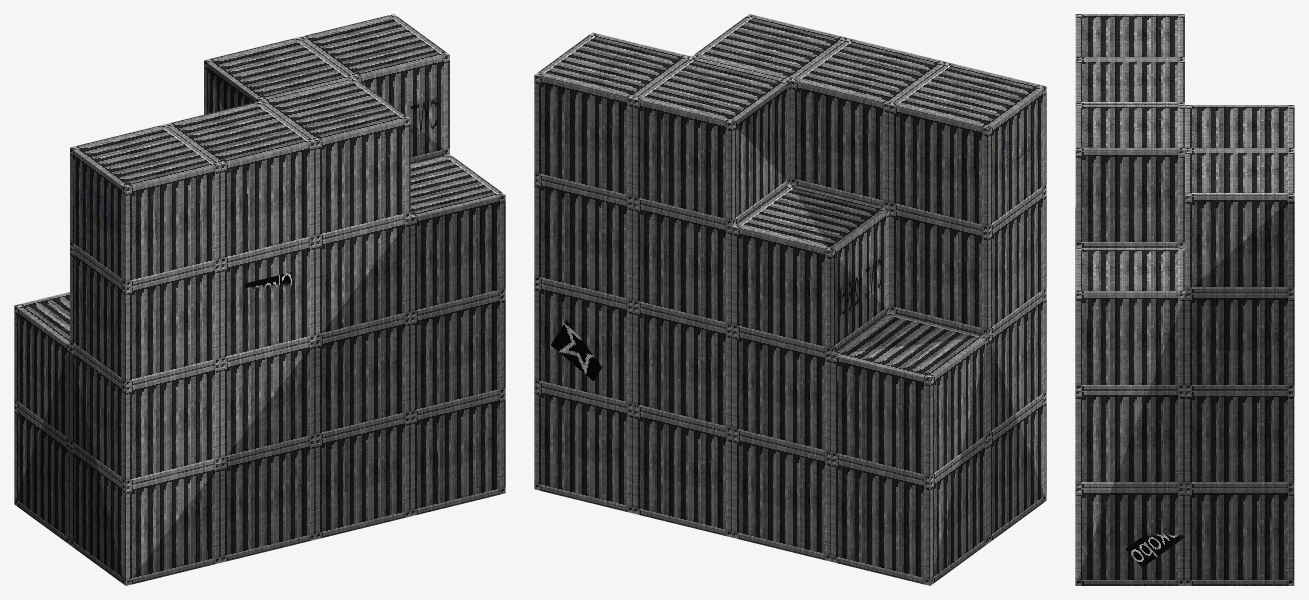
File: primary_097.glb
3 renders of one model, left to right at view 1: azimuth 30°, elevation 25°; view 2: azimuth 150°, elevation 25°; view 3: azimuth 270°, elevation 25°, orthographic. The views are drawn at different scales.
Parts seen in each view (by area): view 1: Object; view 2: Object; view 3: Object.
Boxes of the visible parts, x1=… form: Object: x1=14, y1=14, x2=505, y2=585; Object: x1=534, y1=14, x2=1046, y2=585; Object: x1=1075, y1=14, x2=1294, y2=585.
Bounding box in the file's own units: 5.8 × 5.8 × 2.95.
Materials: 8 (8 with a texture image).
